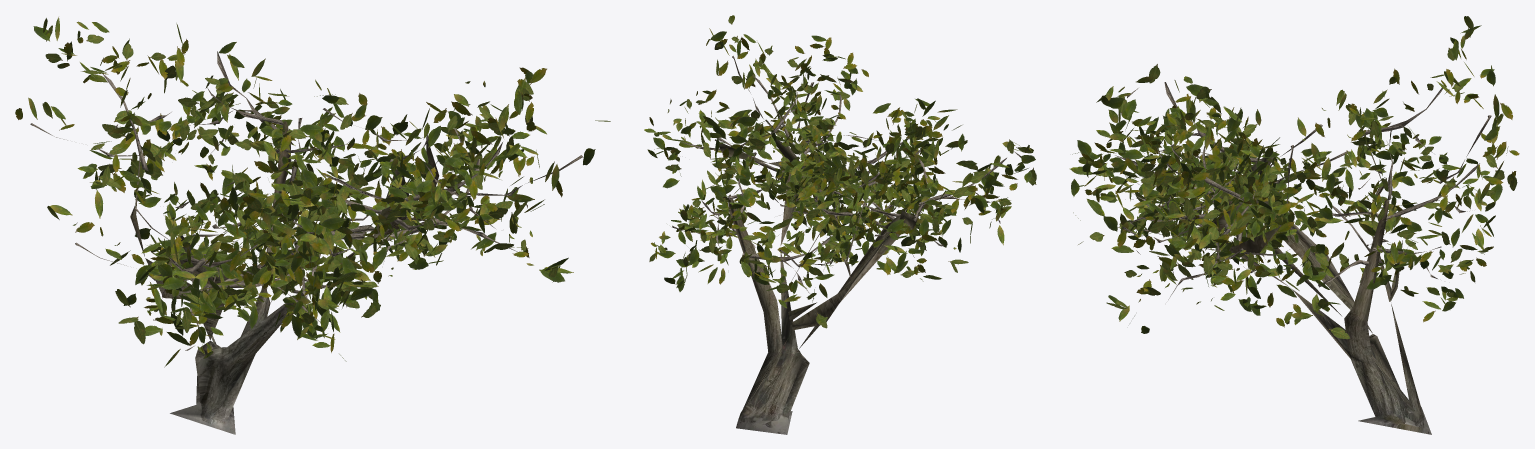
The model's file is oak.glb.
3 renders of one model, left to right at view 1: azimuth 30°, elevation 25°; view 2: azimuth 150°, elevation 25°; view 3: azimuth 270°, elevation 25°, orthographic. The views are drawn at different scales.
Parts seen in each view (by area): view 1: lod1; view 2: lod1; view 3: lod1.
Boxes of the visible parts, x1,y1,x2,y2 form: lod1: (15, 17, 610, 434); lod1: (644, 15, 1036, 434); lod1: (1069, 16, 1519, 434).
Bounding box in the file's own units: 14.8 × 13.07 × 15.19.
3 materials, 3 textured.
